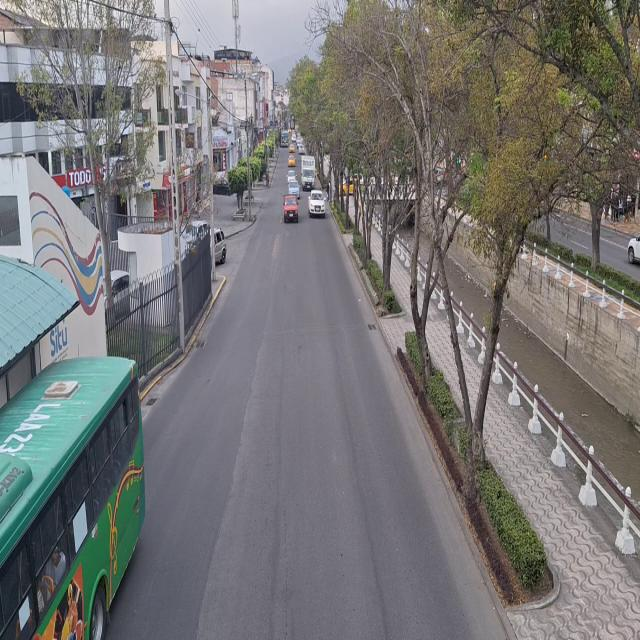BUS: (0, 366, 134, 640)
CMT: (284, 195, 298, 222)
SUV: (309, 191, 325, 216)
TRUCK: (301, 158, 315, 190)
